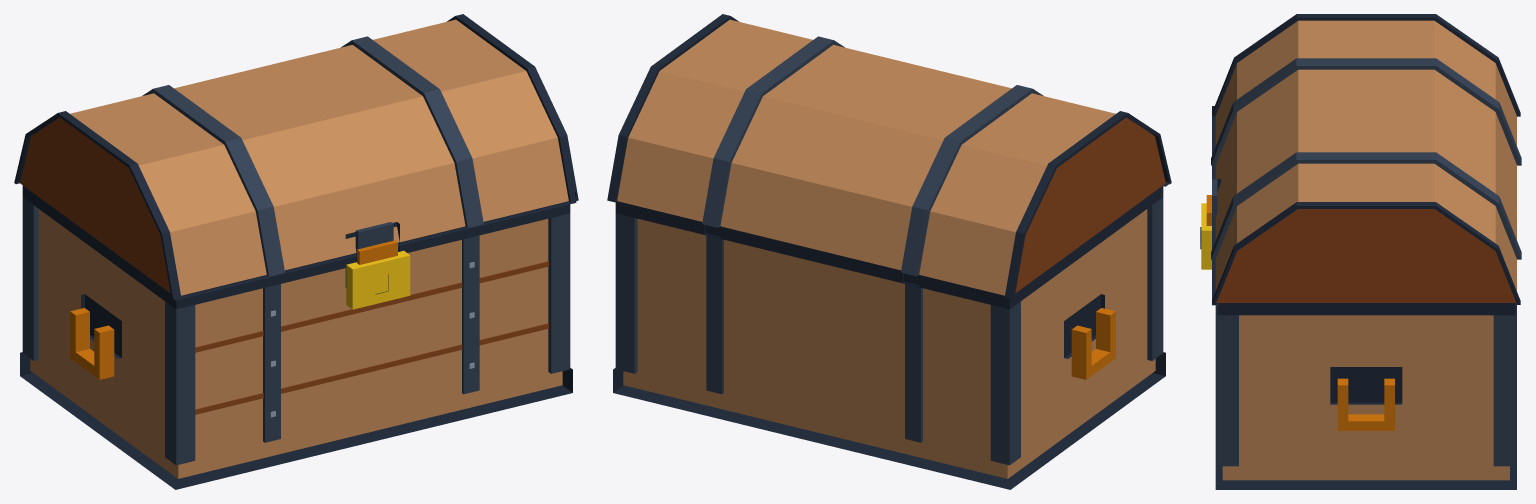
File: chest.fbx
The picture shows the model from 3 angles, left to right: view 1: azimuth 30°, elevation 25°; view 2: azimuth 150°, elevation 25°; view 3: azimuth 270°, elevation 25°; orthographic projection. The views are drawn at different scales.
Parts seen in each view (by area): view 1: Chest; view 2: Chest; view 3: Chest.
Boxes of the visible parts, box(x1,y1,x2,y2) form: Chest: box(14, 14, 578, 489); Chest: box(607, 14, 1171, 489); Chest: box(1200, 14, 1521, 489).
Bounding box in the file's own units: 2.64 × 1.76 × 1.79.
